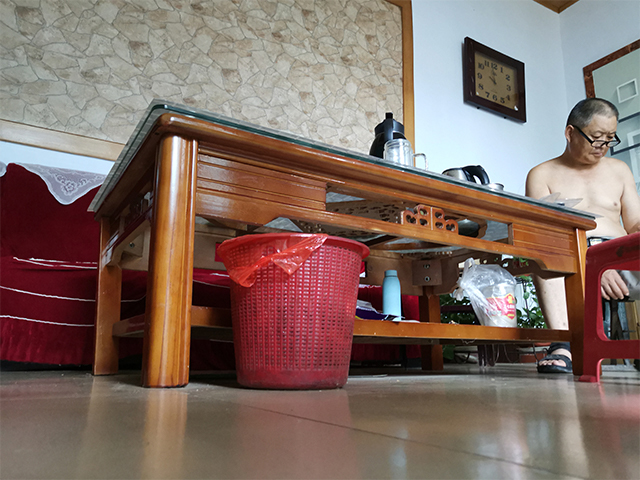sofa: (1, 159, 107, 373)
stool: (577, 230, 640, 385)
table: (86, 97, 605, 390)
trashcan: (215, 231, 373, 392)
